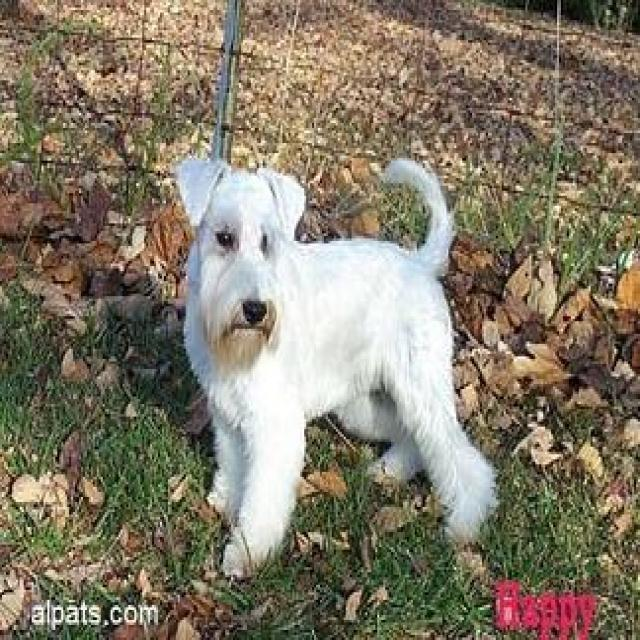standard_schnauzer: (174, 151, 496, 572)
